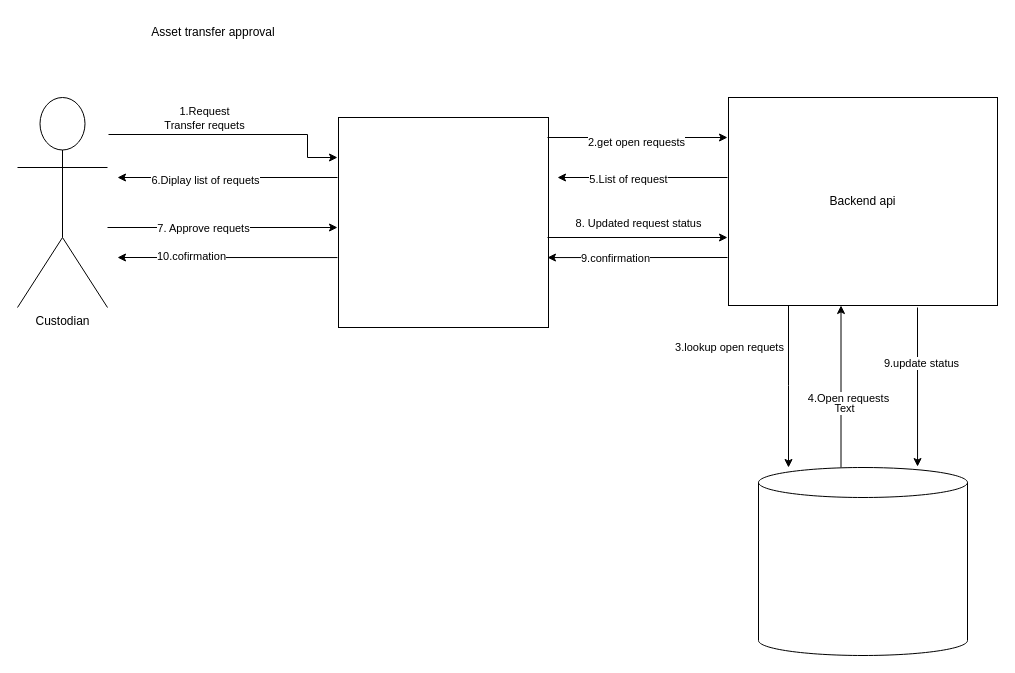
The diagram is 1015 pixels wide and 673 high, and some of its shapes have lost their labels. The shapes that lost their labels are listed below. From the top down, each one's box as (x1, y1, x2, y2) in pixels, then its label:
(338, 116, 548, 328): UI frontend
(758, 466, 968, 656): DB
